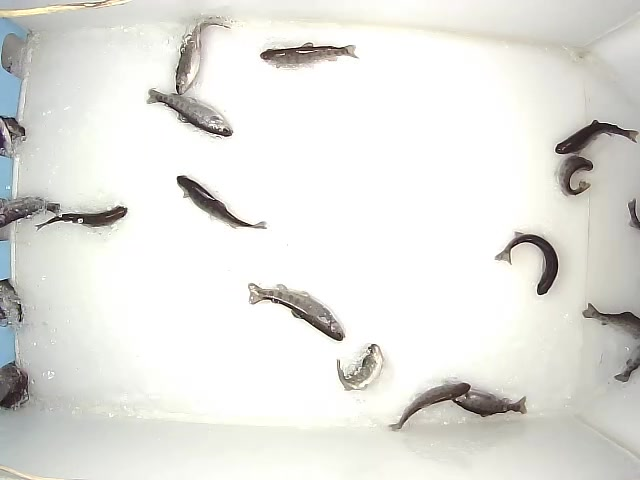fish: (247, 282, 347, 342), (176, 174, 270, 231), (145, 87, 234, 138), (493, 230, 560, 296), (175, 22, 234, 96), (387, 382, 471, 432), (554, 119, 640, 155), (258, 41, 359, 69), (335, 342, 384, 392), (451, 386, 529, 417), (582, 302, 640, 341), (34, 206, 128, 230), (555, 155, 594, 197)
